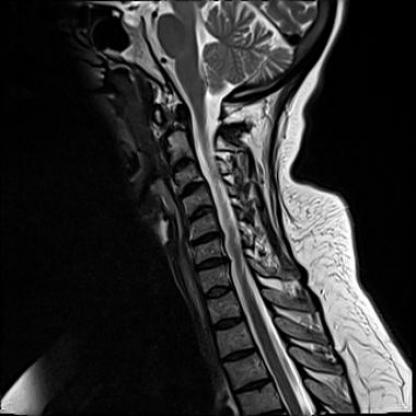Disc Bulgerotation: (194, 256, 229, 273), (185, 205, 217, 222), (176, 182, 207, 197), (189, 232, 224, 245)
Disc Protrusionrotation: (194, 256, 229, 273)
Osteophytesrotation: (184, 205, 216, 222), (188, 232, 224, 245), (176, 183, 207, 198)
